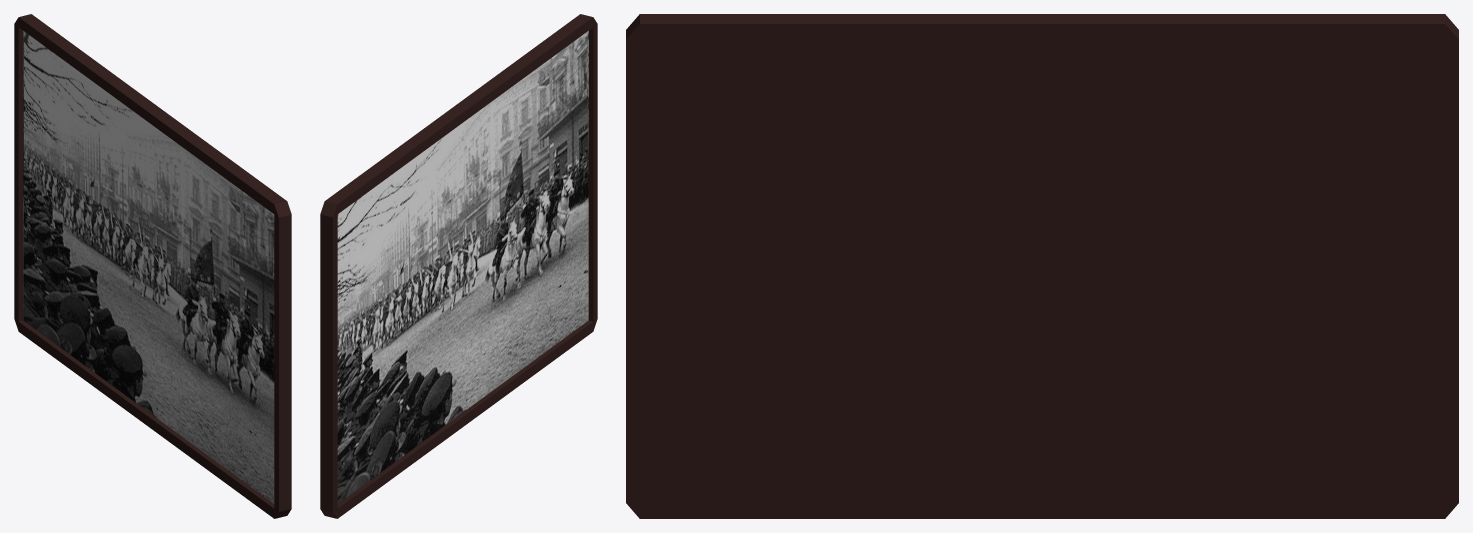
Rendered from painting_soviet.fbx.
3 renders of one model, left to right at view 1: azimuth 30°, elevation 25°; view 2: azimuth 150°, elevation 25°; view 3: azimuth 270°, elevation 25°, orthographic. The views are drawn at different scales.
Visible parts, largest first — view 1: painting soviet; view 2: painting soviet; view 3: painting soviet.
Boxes of the visible parts, x1,y1,x2,y2 form: painting soviet: (14, 14, 291, 518); painting soviet: (320, 14, 597, 518); painting soviet: (626, 14, 1458, 518).
Bounding box in the file's own units: 10.96 × 255 × 389.
2 materials, 1 textured.
